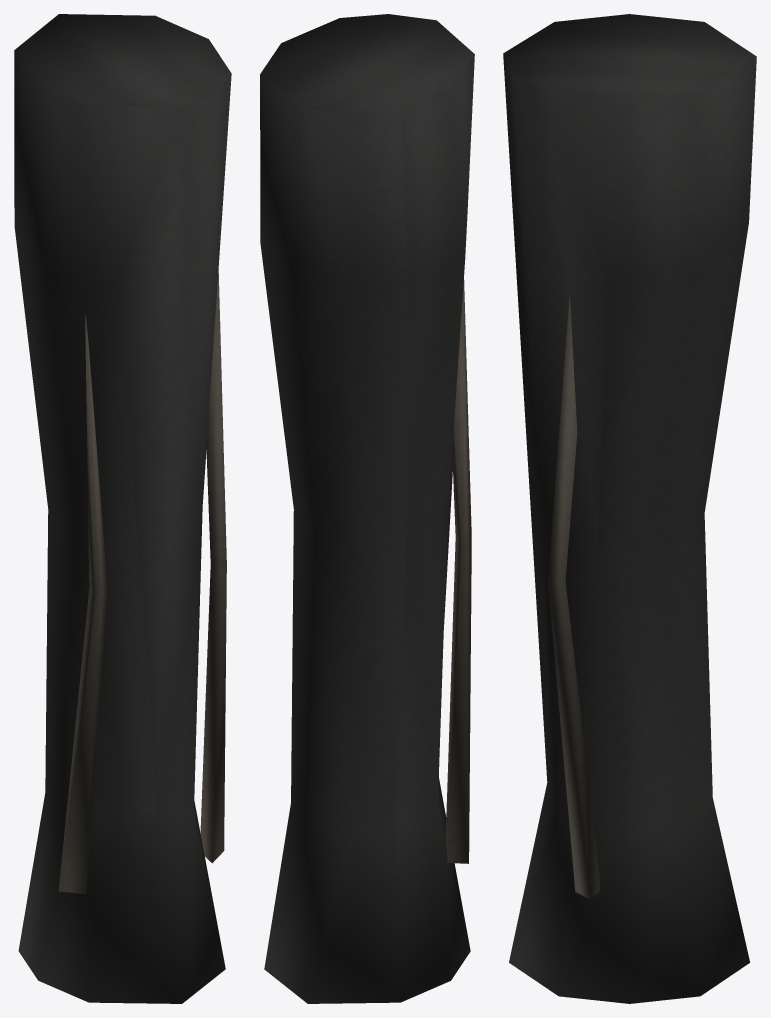
3 views of the same model, side by side, from view 1: azimuth 30°, elevation 25°; view 2: azimuth 150°, elevation 25°; view 3: azimuth 270°, elevation 25° (orthographic).
Visible parts, largest first — view 1: agro_fl_low_LOD1; view 2: agro_fl_low_LOD1; view 3: agro_fl_low_LOD1.
Boxes of the visible parts, <box> form: agro_fl_low_LOD1: <box>14,14,231,1003</box>; agro_fl_low_LOD1: <box>260,14,474,1003</box>; agro_fl_low_LOD1: <box>503,14,756,1003</box>.
Size of the model in its own units: 0.125 by 0.615 by 0.156.
Materials: 2 (2 with a texture image).
